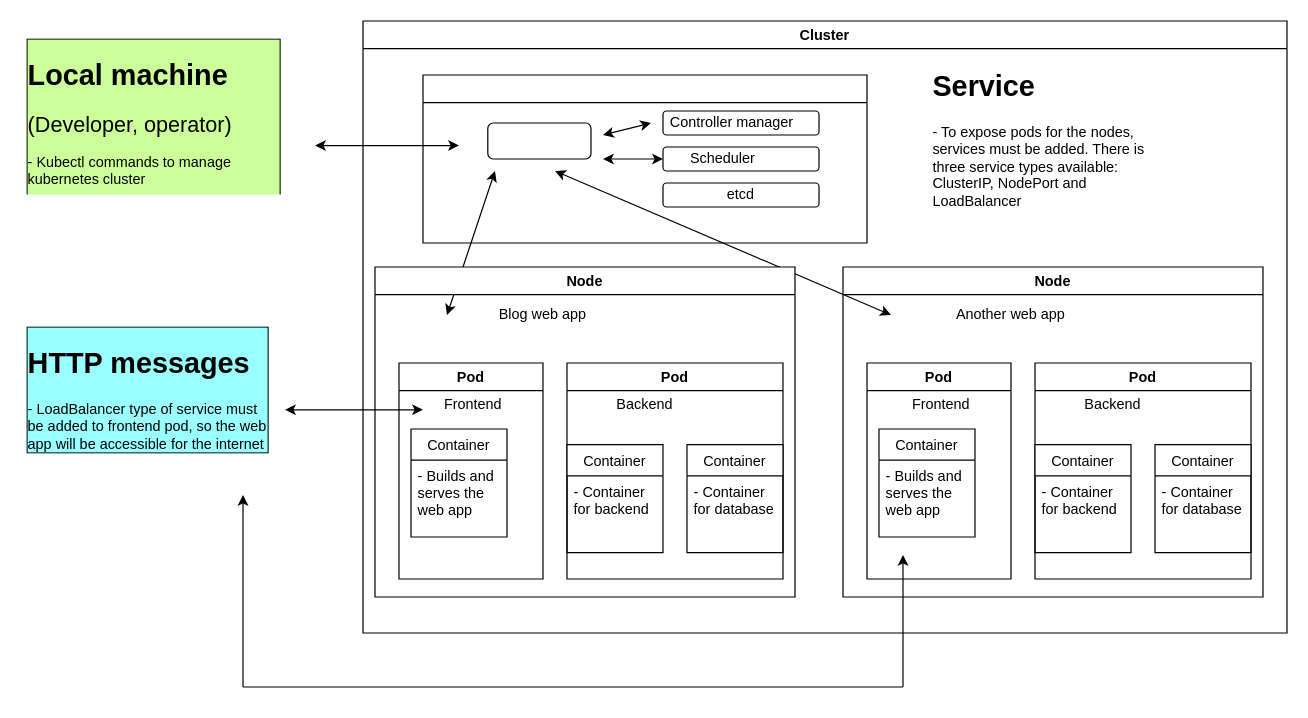
Image size: 1308x718. Some labels were removed from this diagram. The box of each missing label's shape, as (x1, y1, x2, y2) in pixels:
API server: (487, 122, 591, 159)
Master-node: (422, 74, 867, 243)
